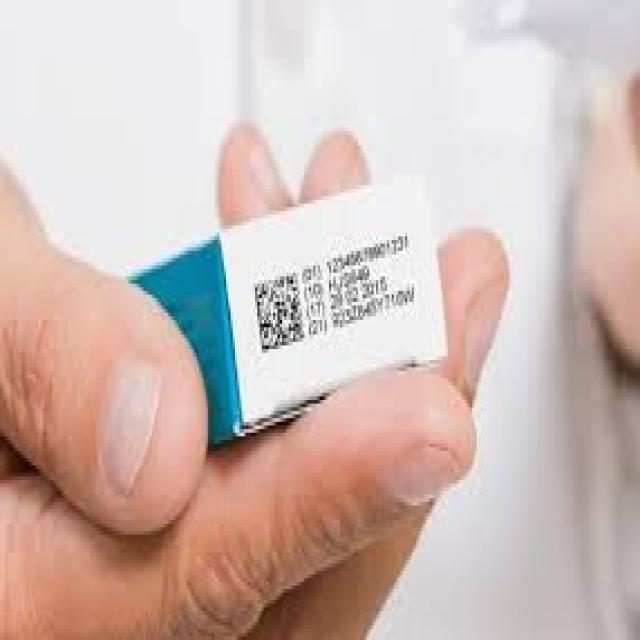datamatrix: (248, 262, 309, 356)
